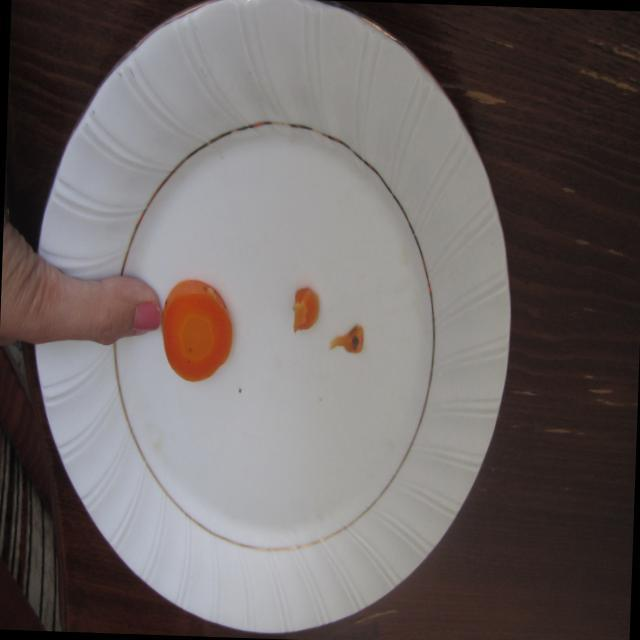Carrot: (157, 274, 239, 389)
Finger: (85, 267, 164, 351)
